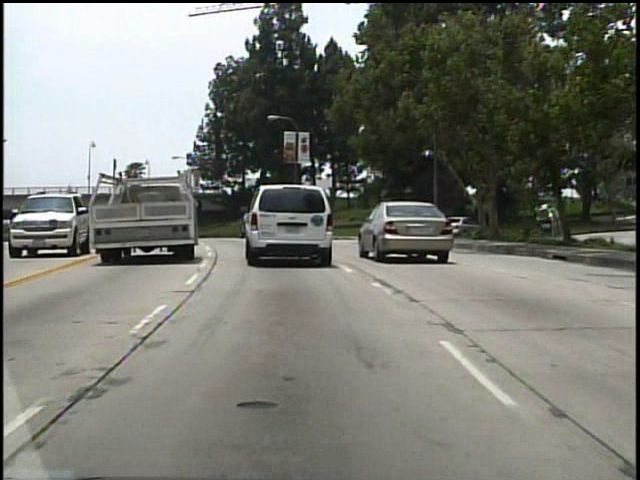person: (64, 181, 75, 201)
